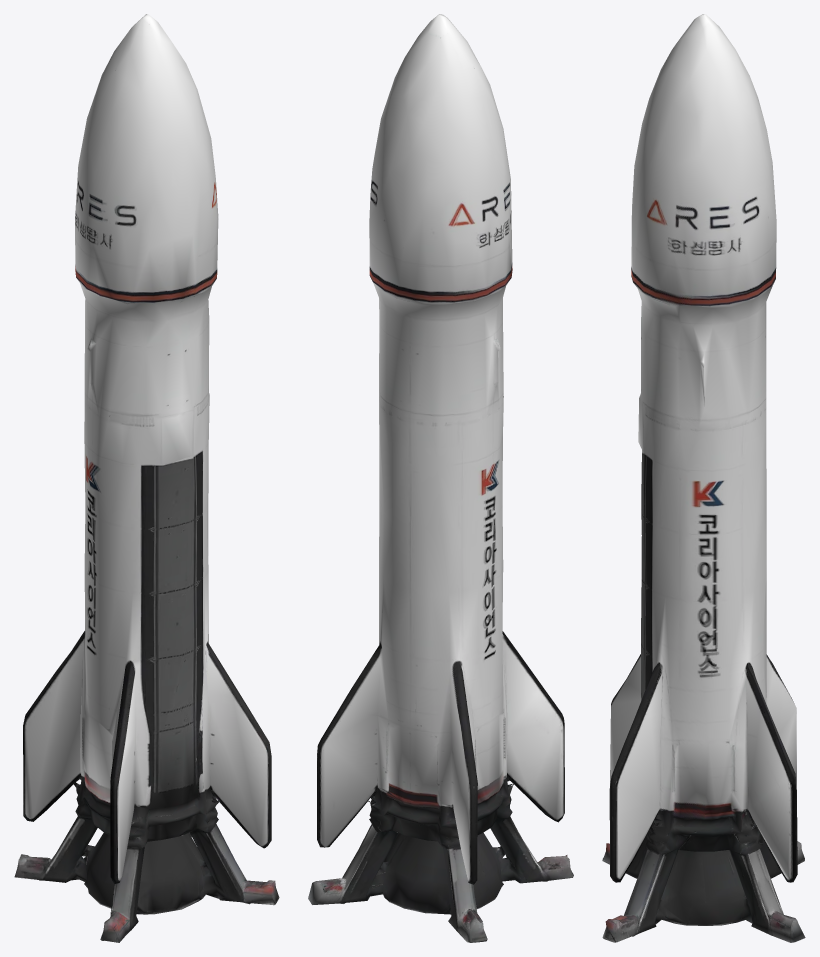
Rendered from Rocket.min.glb.
3 views of the same model, side by side, from view 1: azimuth 30°, elevation 25°; view 2: azimuth 150°, elevation 25°; view 3: azimuth 270°, elevation 25° (orthographic).
Visible parts, largest first — view 1: Mesh1.0; view 2: Mesh1.0; view 3: Mesh1.0.
Part boxes in pixels (left/top/right/bottom): Mesh1.0: left=14, top=14, right=279, bottom=942; Mesh1.0: left=308, top=14, right=573, bottom=942; Mesh1.0: left=602, top=14, right=805, bottom=942.
Bounding box in the file's own units: 0.4064 × 1.9 × 0.3937.
1 material, 1 textured.
